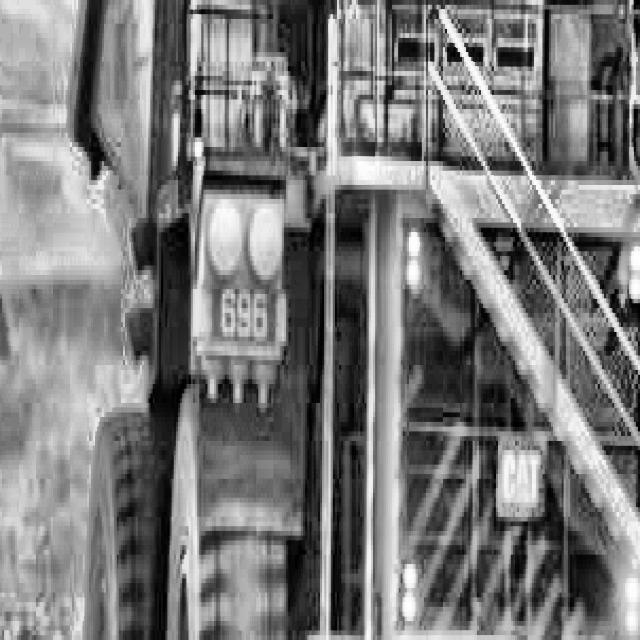dump_truck: (53, 0, 640, 640)
